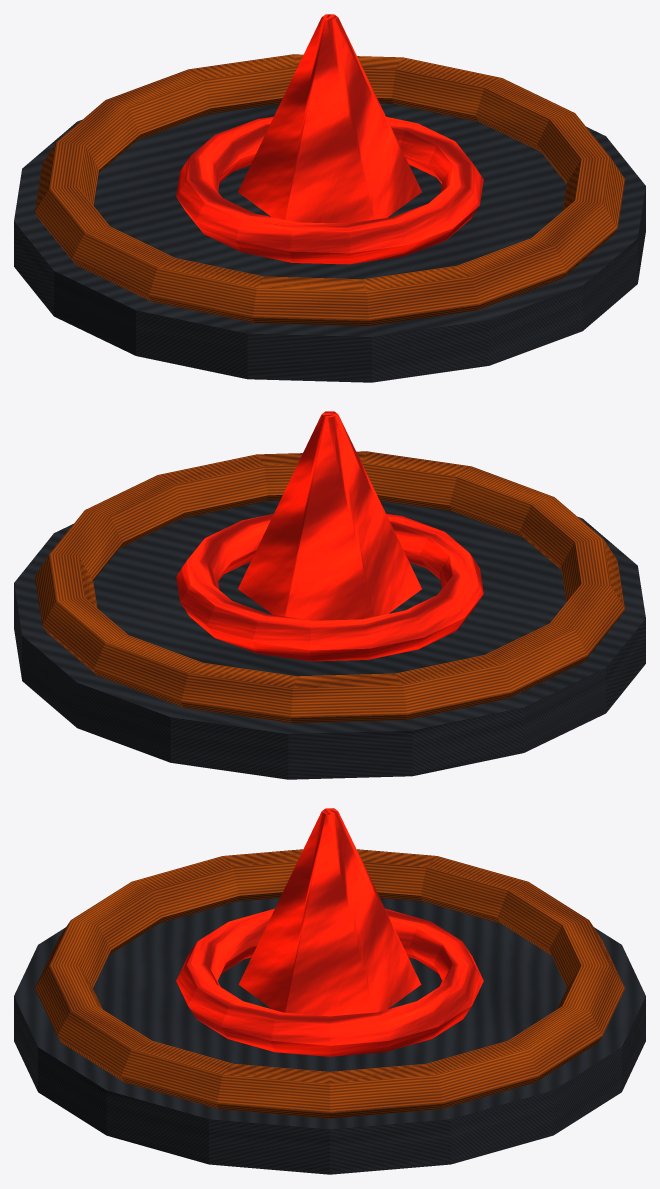
The model's file is SM_FC_EmberSigil.glb.
3 renders of one model, top to bottom at view 1: azimuth 30°, elevation 25°; view 2: azimuth 150°, elevation 25°; view 3: azimuth 270°, elevation 25°, orthographic.
Visible parts, largest first — view 1: SM_FC_EmberSigil; view 2: SM_FC_EmberSigil; view 3: SM_FC_EmberSigil.
Boxes of the visible parts, box(x1,y1,x2,y2) form: SM_FC_EmberSigil: box(14, 14, 645, 382); SM_FC_EmberSigil: box(14, 411, 645, 779); SM_FC_EmberSigil: box(14, 808, 645, 1174).
Bounding box in the file's own units: 1.52 × 0.61 × 1.52.
3 materials, 3 textured.
